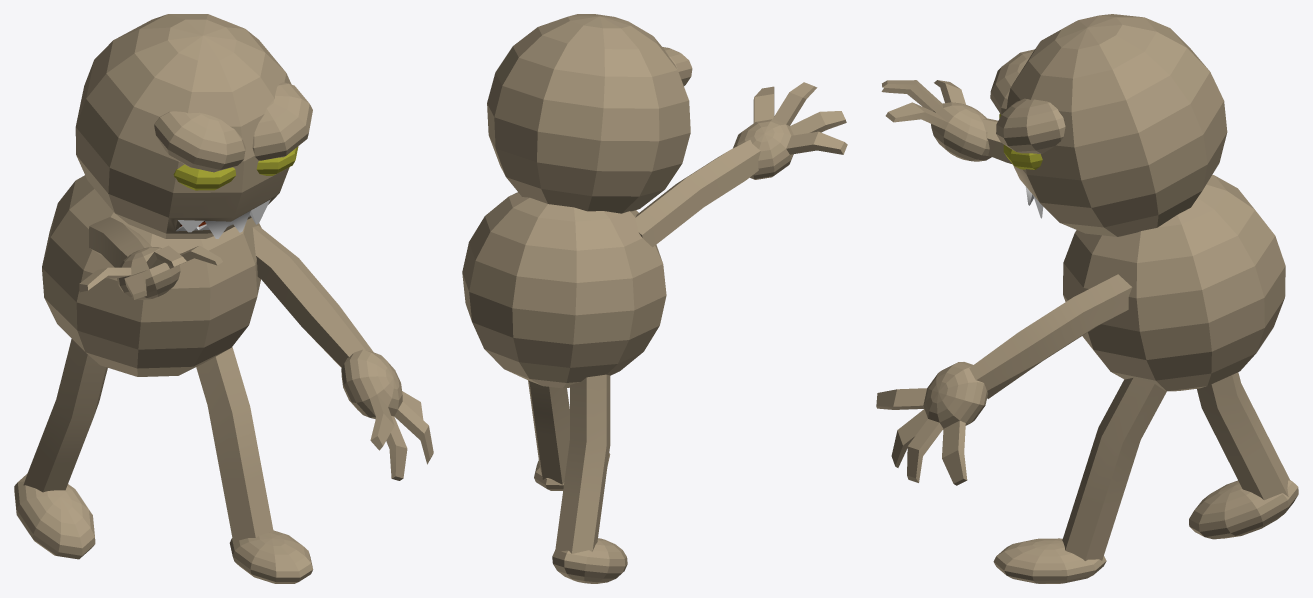
Rendered from Enemy01.fbx.
3 views of the same model, side by side, from view 1: azimuth 30°, elevation 25°; view 2: azimuth 150°, elevation 25°; view 3: azimuth 270°, elevation 25° (orthographic). The views are drawn at different scales.
Visible parts, largest first — view 1: EnemyZombie; view 2: EnemyZombie; view 3: EnemyZombie.
Boxes of the visible parts, bbox=[...] form: EnemyZombie: bbox=[14, 14, 433, 583]; EnemyZombie: bbox=[462, 14, 847, 583]; EnemyZombie: bbox=[876, 14, 1298, 583].
Size of the model in its own units: 0.2892 by 0.4333 by 0.305.
